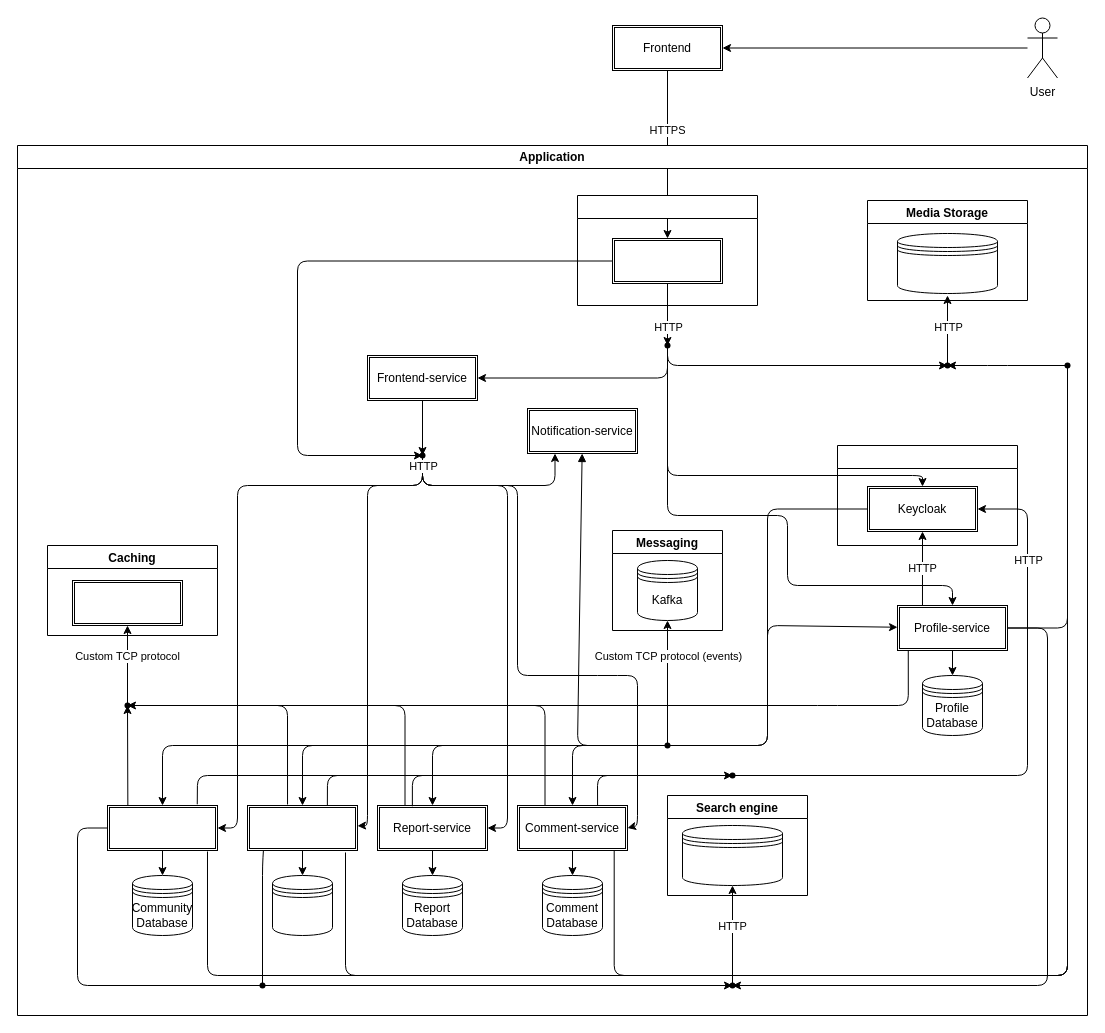
This 1105x1033 diagram has some shape labels left out. Each missing label, with the box of its shape:
API Gateway: (612, 238, 722, 284)
Community-service: (106, 804, 218, 850)
Content Database: (272, 874, 332, 936)
Content-service: (246, 804, 358, 850)
Elasticsearch: (682, 824, 782, 886)
External Entrypoint: (576, 194, 758, 306)
Redis: (72, 580, 182, 626)
S3 (MinIO): (896, 232, 998, 294)
Security: (836, 444, 1018, 546)
